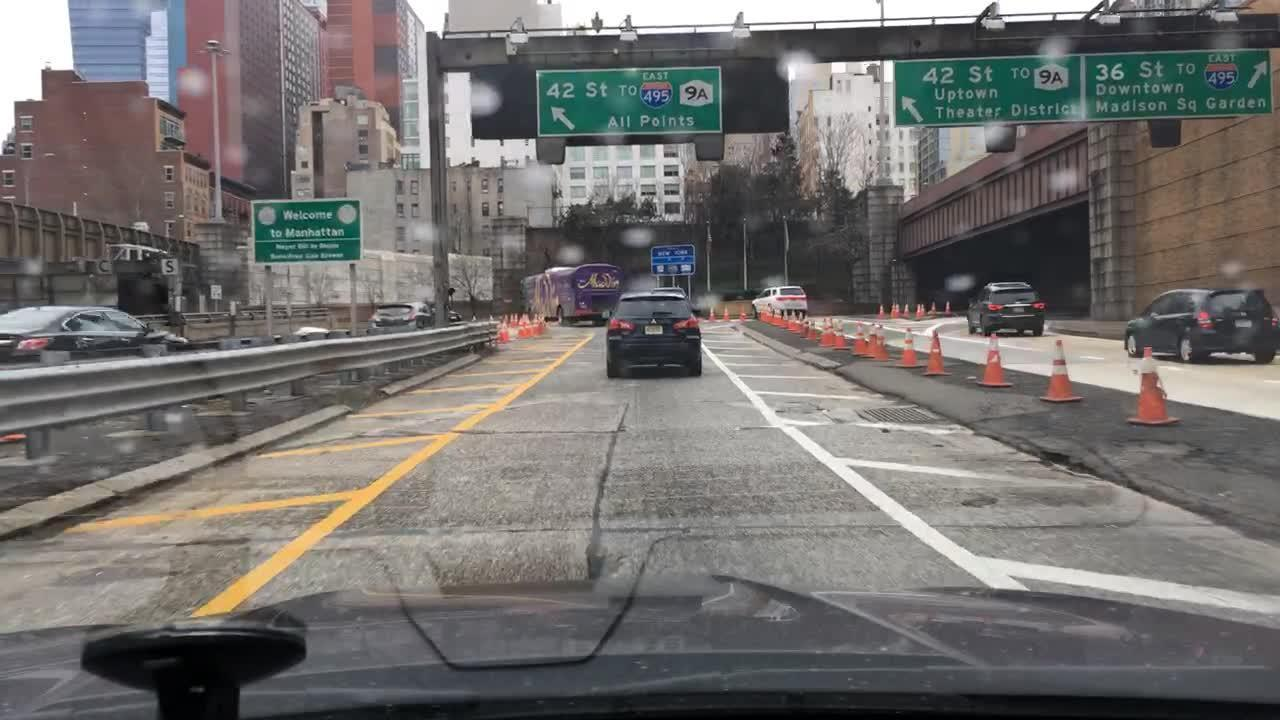Mitsubishi: (648, 313, 661, 328)
